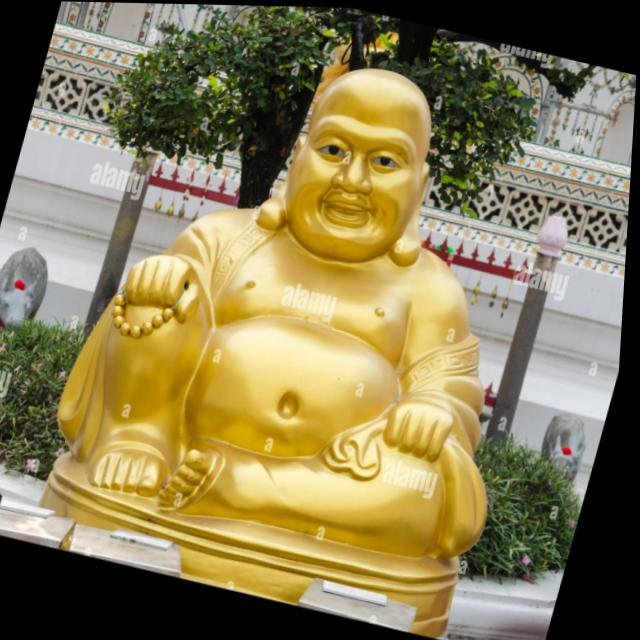Smiling Buddha: (95, 27, 557, 543)
